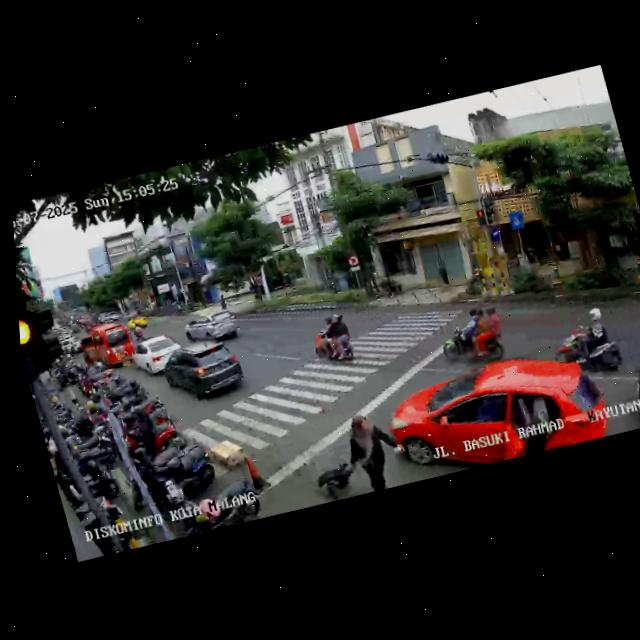car: (374, 337, 615, 484), (156, 331, 251, 410), (76, 319, 138, 376), (179, 302, 243, 350), (127, 331, 188, 379), (125, 312, 149, 331)
motorcycle: (548, 301, 630, 385), (432, 302, 512, 372), (306, 310, 360, 372), (619, 341, 640, 428), (127, 321, 147, 343)
person: (340, 404, 402, 494)
